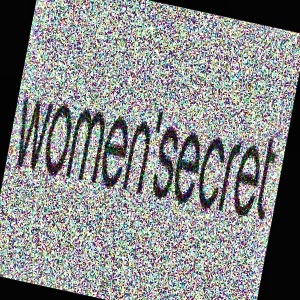women_secret: (271, 82, 295, 181)
